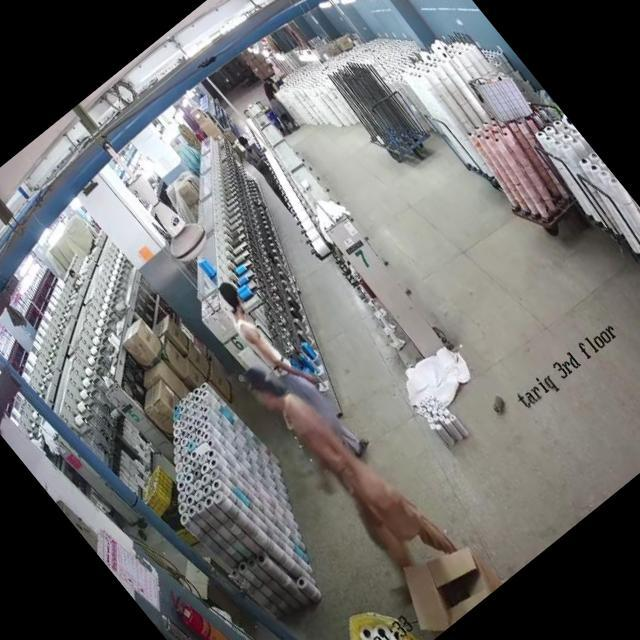person: (278, 382, 426, 552), (202, 267, 339, 420), (232, 132, 294, 204), (252, 75, 304, 134)
